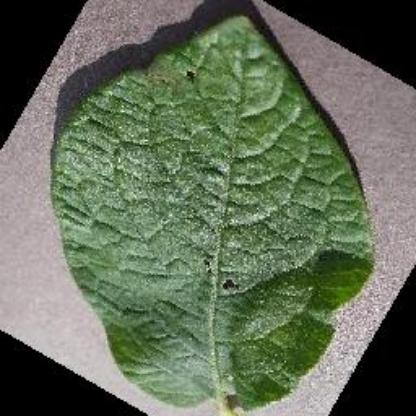Healthy-plant: (55, 9, 392, 411)
